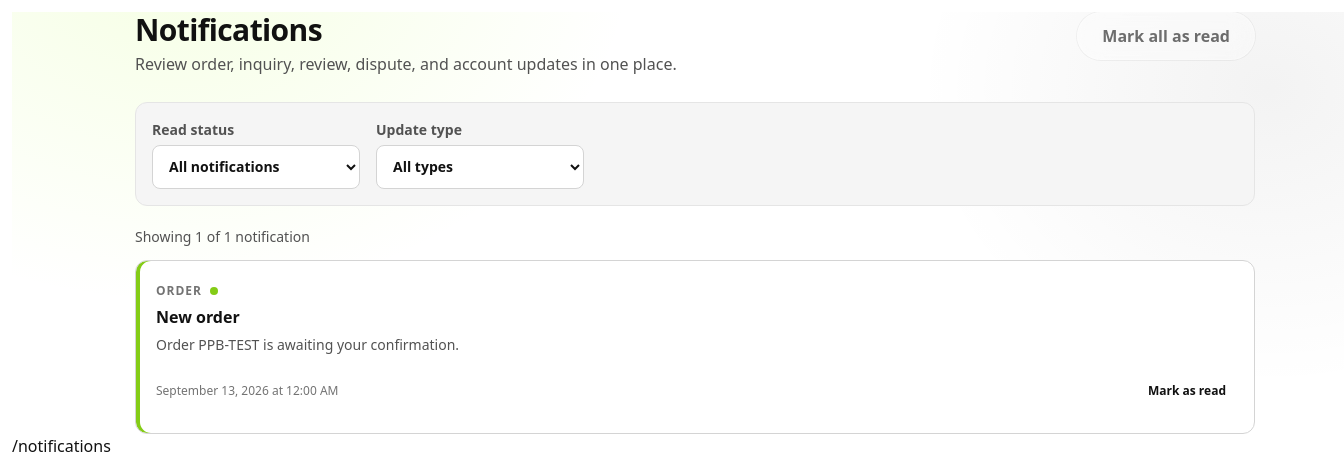
Test: NotificationsPage › stores read and type filters in the URL and resets pagination
Check: the text "New order" is shown, box left=156, top=306, right=240, bottom=328
Select "Unread" in the dropdown labelled "Read status": (256, 167) left=152, top=145, right=360, bottom=189
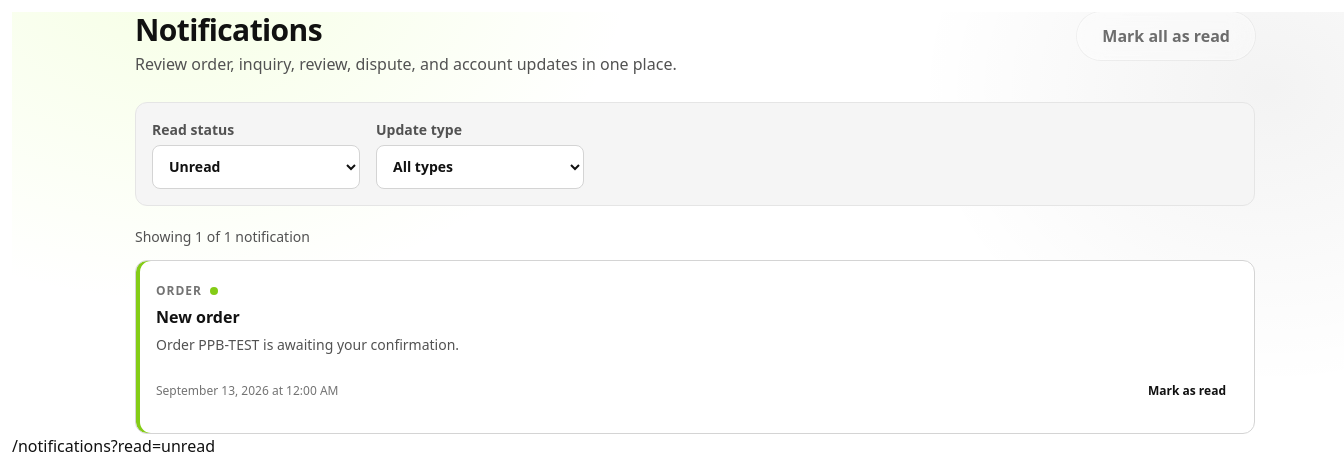
Check: the text named "location" reads "/notifications?read=unread", box left=12, top=434, right=215, bottom=456
Select "Orders" in the dropdown labelled "Update type": (480, 167) left=376, top=145, right=584, bottom=189
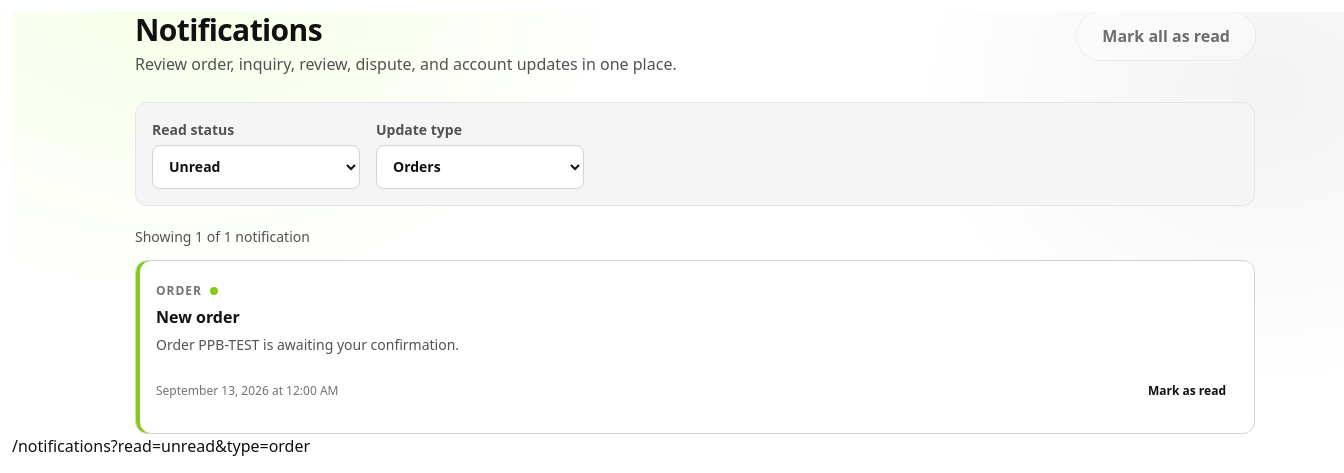
Check: the text named "location" shows "read=unread&type=order", box left=111, top=434, right=310, bottom=456
